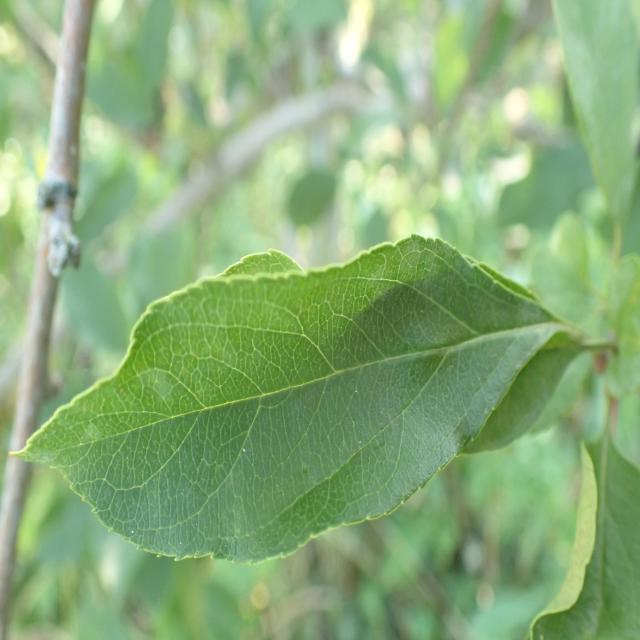Powdery_mildew: (45, 239, 553, 571)
